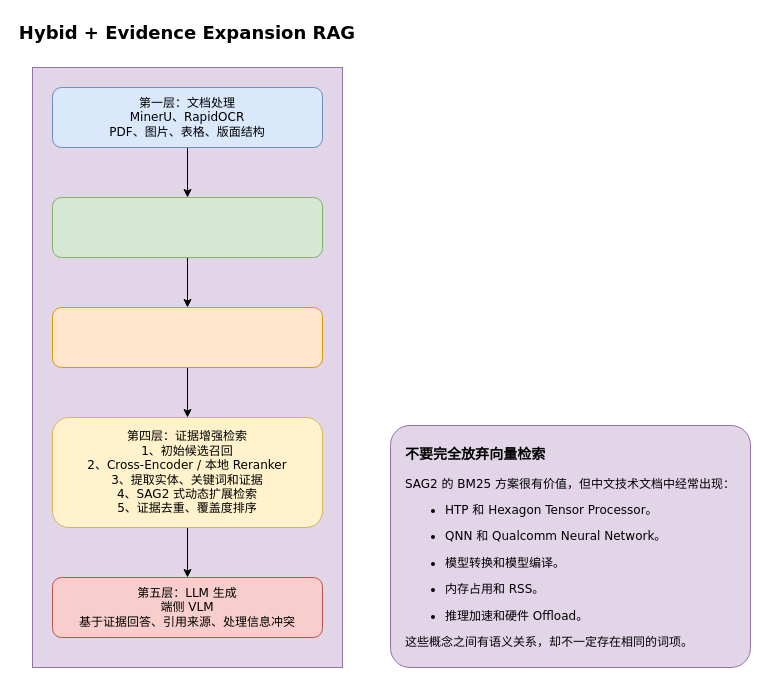
The diagram is 768 pixels wide and 685 high, and some of its shapes have lost their labels. Each missing label, with the centre of its shape:
"第三层：混合索引 BM25 Vector SQLite FTS5 Embedding + 向量索引" goes at pixel 187 337.
"第二层：统一文档结构 Document --> Section --> Chuck --> Metadata 保留标题、页面、来源、父子 Chunk 和原位置" goes at pixel 187 227.
